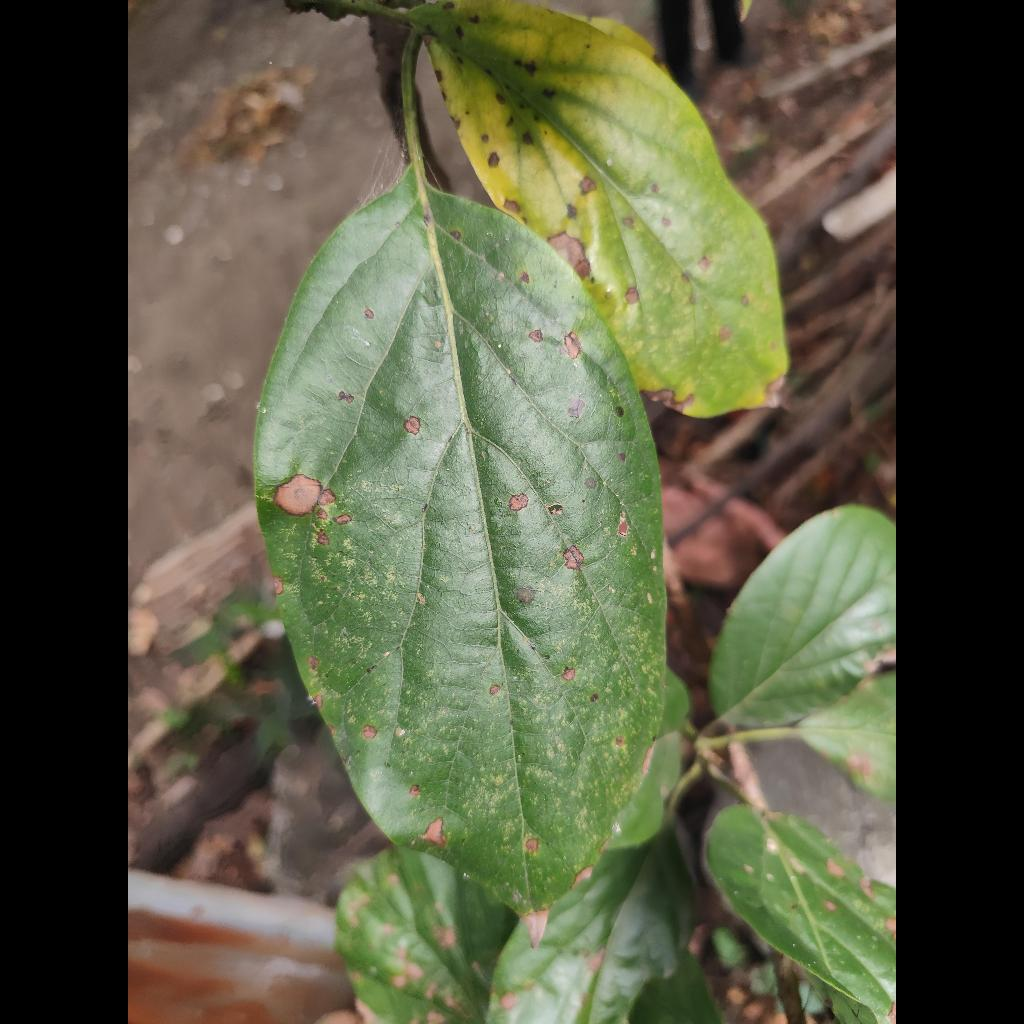Anthracnose: (255, 169, 664, 915)
